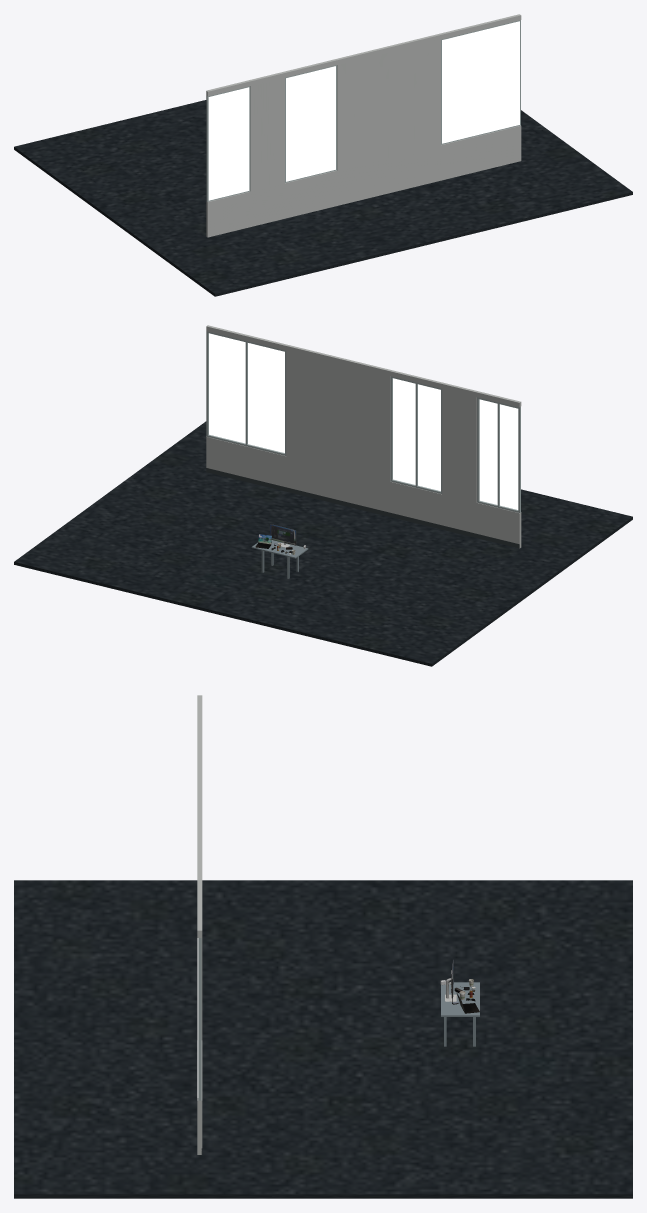
File: ours.glb
The picture shows the model from 3 angles, top to bottom: view 1: azimuth 30°, elevation 25°; view 2: azimuth 150°, elevation 25°; view 3: azimuth 270°, elevation 25°; orthographic projection. The views are drawn at different scales.
Parts seen in each view (by area): view 1: floor_0, wall_0, wall_0_backdrop, wall_0_frames; view 2: floor_0, wall_0, wall_0_backdrop, wall_0_frames, wall_0_skirting, desk_0; view 3: floor_0, wall_0, desk_0.
Boxes of the visible parts, bbox=[...] form: floor_0: bbox=[14, 100, 632, 296]; wall_0: bbox=[206, 14, 521, 237]; wall_0_backdrop: bbox=[208, 21, 519, 200]; wall_0_frames: bbox=[206, 20, 520, 201]; floor_0: bbox=[14, 421, 632, 666]; wall_0: bbox=[206, 325, 521, 548]; wall_0_backdrop: bbox=[209, 333, 518, 509]; wall_0_frames: bbox=[206, 331, 520, 512]; wall_0_skirting: bbox=[206, 468, 519, 548]; desk_0: bbox=[251, 540, 308, 578]; floor_0: bbox=[14, 880, 632, 1198]; wall_0: bbox=[197, 695, 202, 1154]; desk_0: bbox=[441, 982, 479, 1046].
Bounding box in the file's own units: 12 × 4.08 × 10.
Materials: 20 (17 with a texture image).
